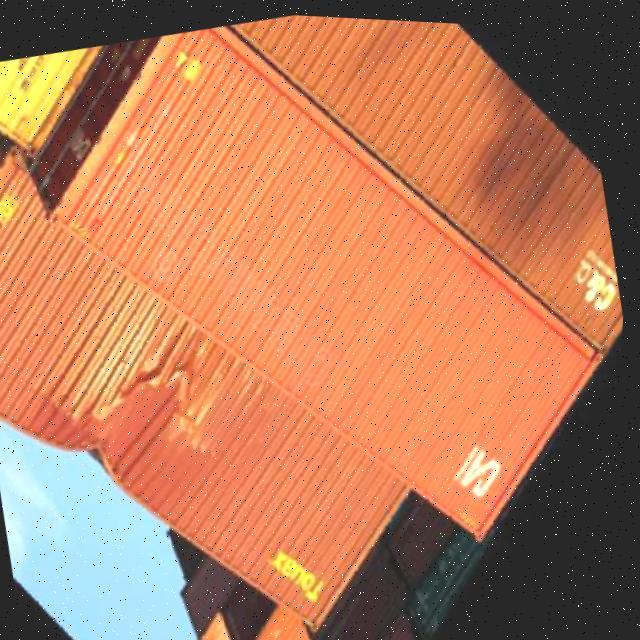dent: (57, 350, 217, 481)
